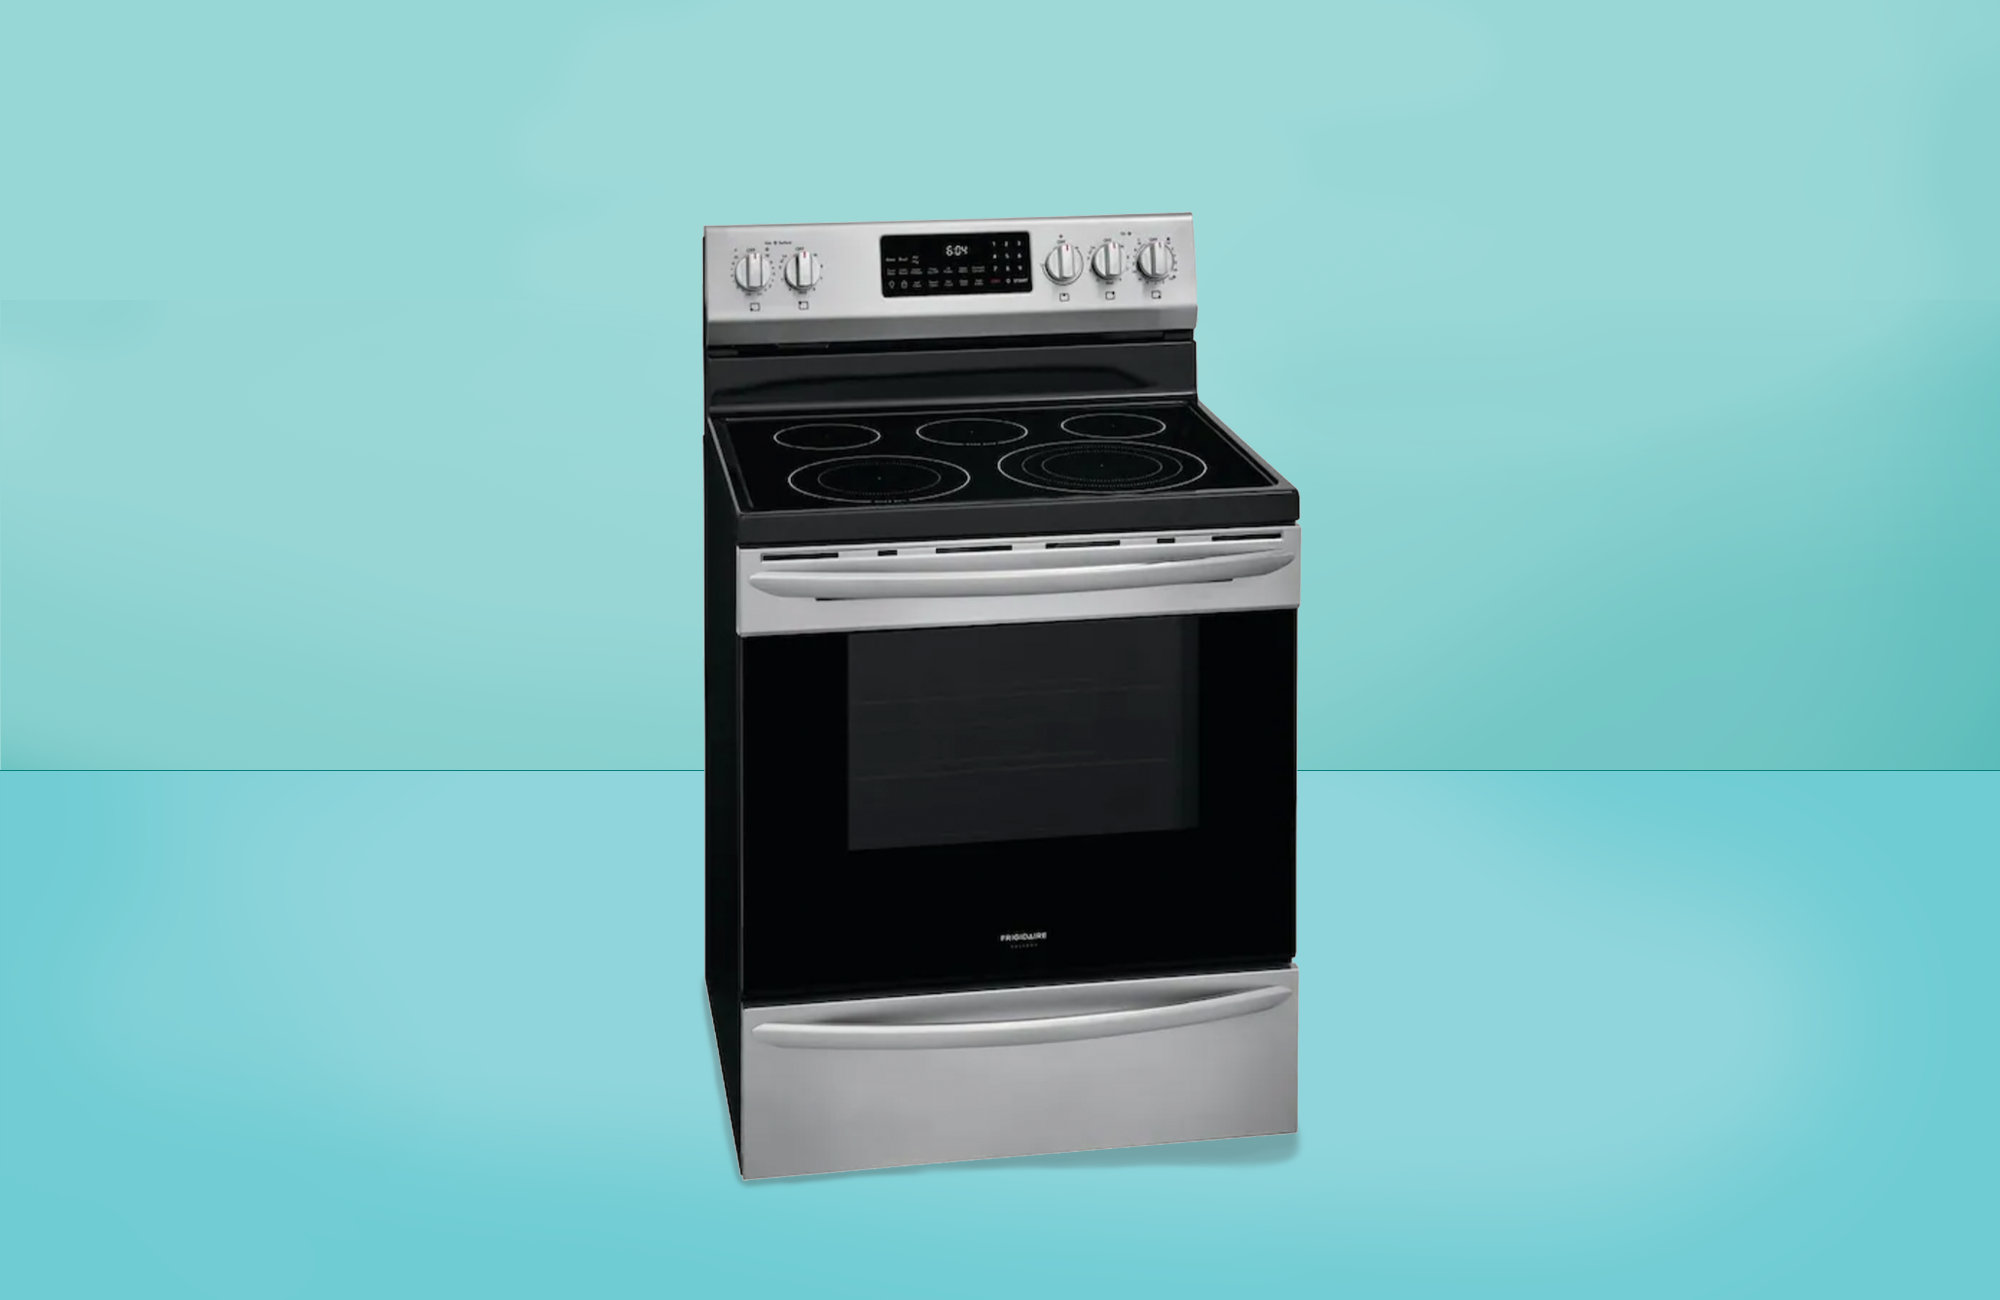stove: (676, 201, 1328, 1169)
